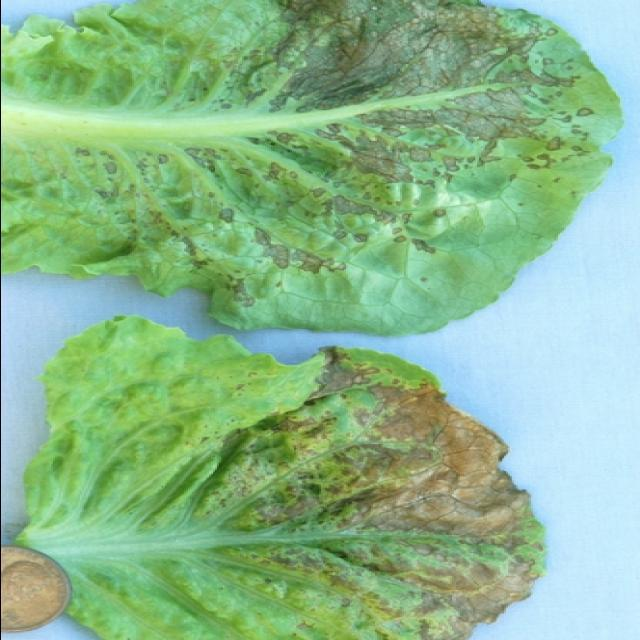Lettuce: (0, 1, 620, 334), (0, 321, 548, 640)
